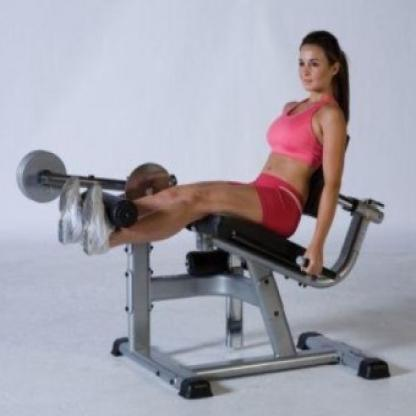leg extension: (7, 20, 400, 402)
